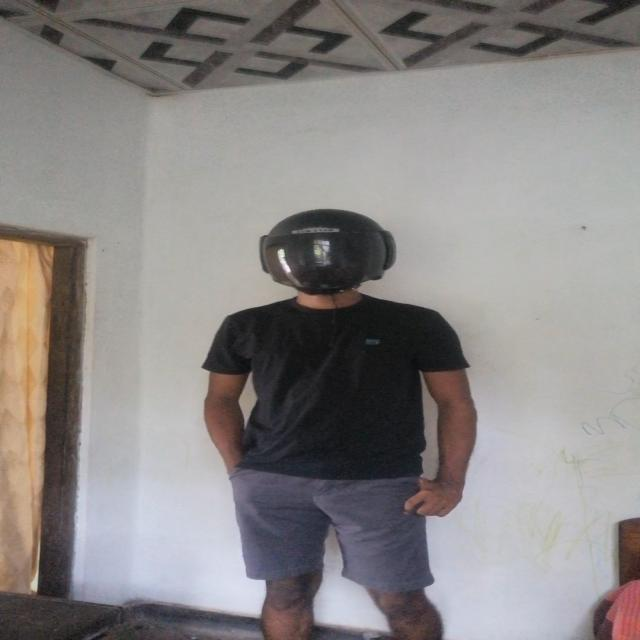Helmet_Wearer: (249, 200, 409, 314)
Person: (191, 201, 470, 640)
